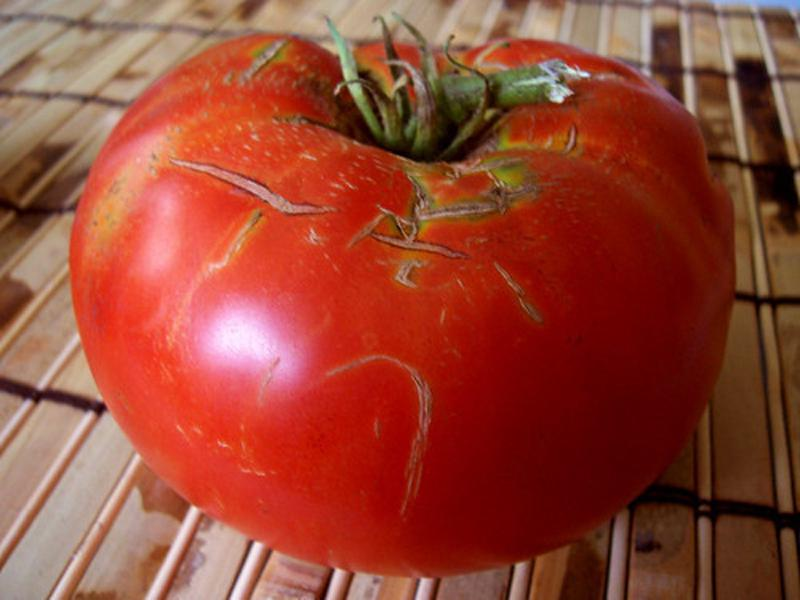Tomato: (70, 32, 734, 568)
